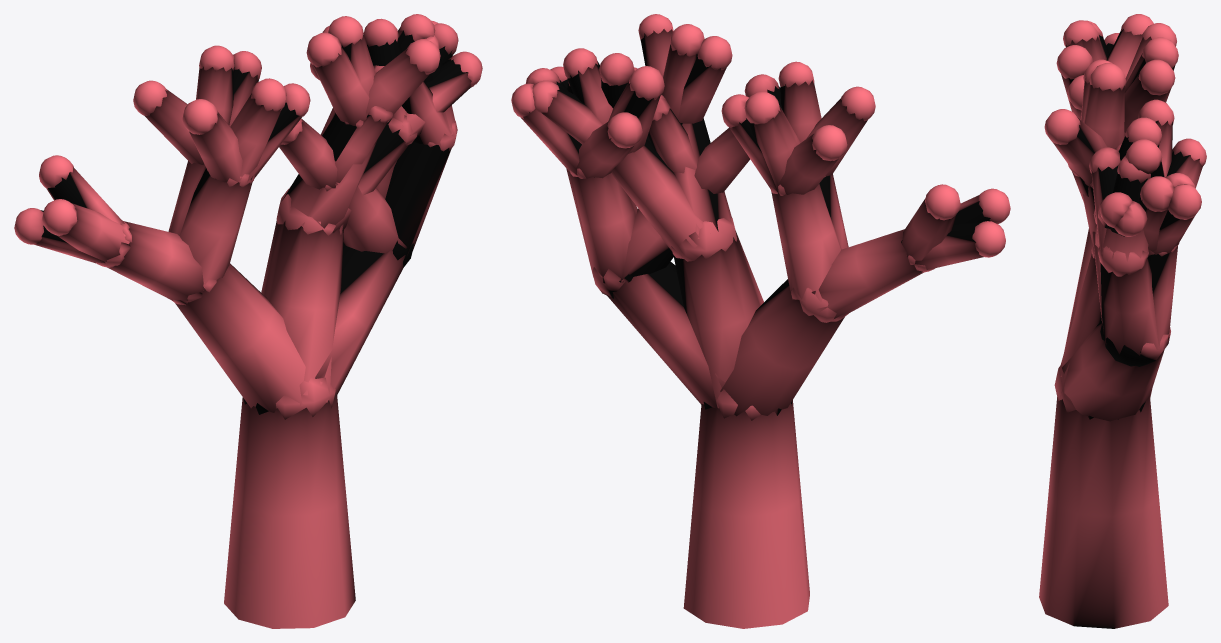
Rendered from coral_pink.glb.
The picture shows the model from 3 angles, left to right: view 1: azimuth 30°, elevation 25°; view 2: azimuth 150°, elevation 25°; view 3: azimuth 270°, elevation 25°; orthographic projection.
Parts seen in each view (by area): view 1: coral_pink_mesh; view 2: coral_pink_mesh; view 3: coral_pink_mesh.
Part boxes in pixels (x1=…): coral_pink_mesh: x1=14, y1=14, x2=482, y2=628; coral_pink_mesh: x1=511, y1=14, x2=1010, y2=628; coral_pink_mesh: x1=1039, y1=14, x2=1206, y2=628.
Size of the model in its own units: 0.8946 by 1.04 by 0.2813.
